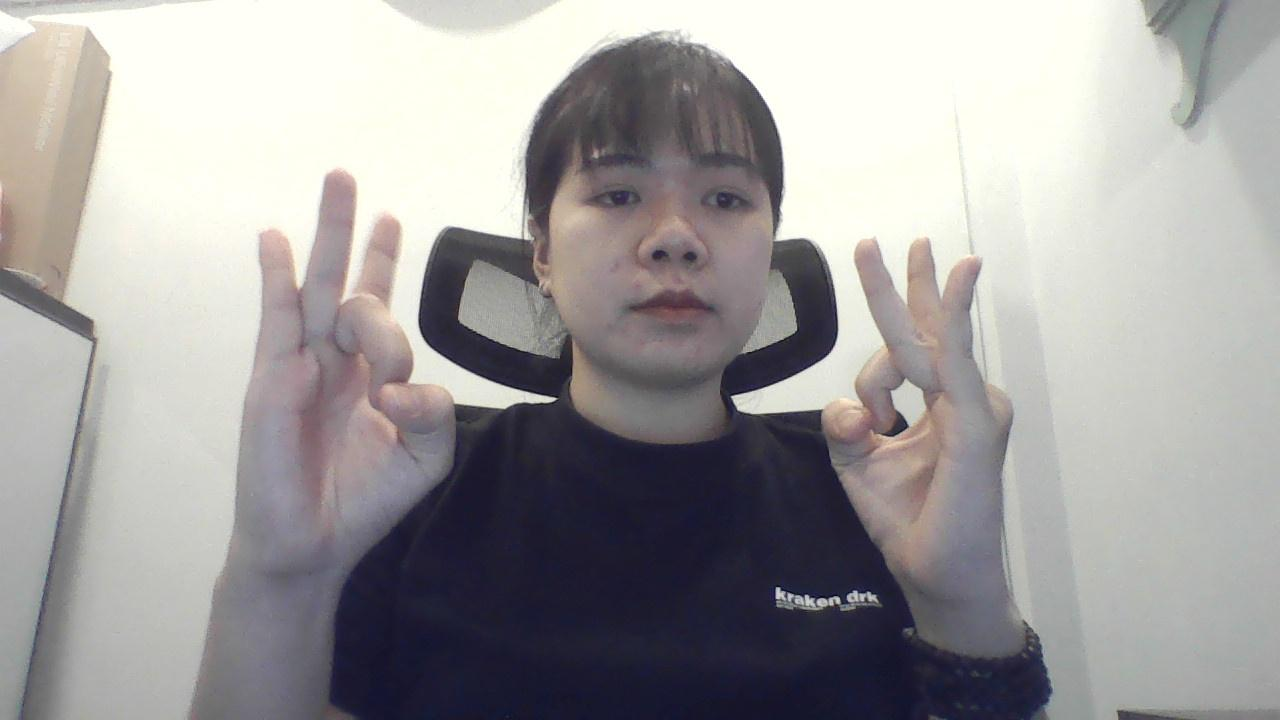H: (212, 152, 462, 571), (809, 222, 1040, 619)
